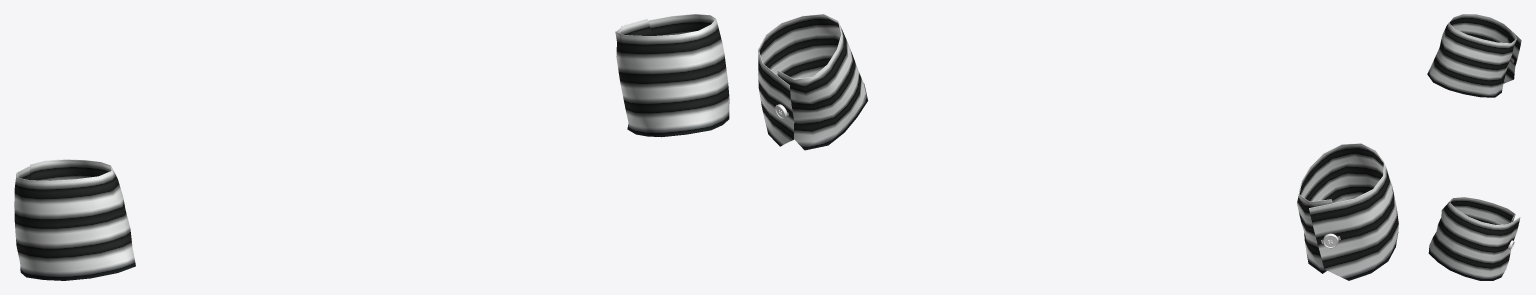
File: 1_Button_Notch.glb
The picture shows the model from 3 angles, left to right: view 1: azimuth 30°, elevation 25°; view 2: azimuth 150°, elevation 25°; view 3: azimuth 270°, elevation 25°; orthographic projection. The views are drawn at different scales.
Parts seen in each view (by area): view 1: Pattern_2052445_Node, Pattern_2052450_Node; view 2: Pattern_2052450_Node, Pattern_2052445_Node; view 3: Pattern_2052445_Node, Pattern_2052450_Node.
Boxes of the visible parts, x1,y1,x2,y2 form: Pattern_2052445_Node: (14,159,135,280); Pattern_2052450_Node: (615,14,729,137); Pattern_2052450_Node: (758,14,867,150); Pattern_2052445_Node: (1297,143,1398,280); Pattern_2052445_Node: (1427,14,1521,97); Pattern_2052450_Node: (1428,197,1520,280).
Size of the model in its own units: 59.95 by 9.95 by 11.55.
8 materials, 4 textured.
